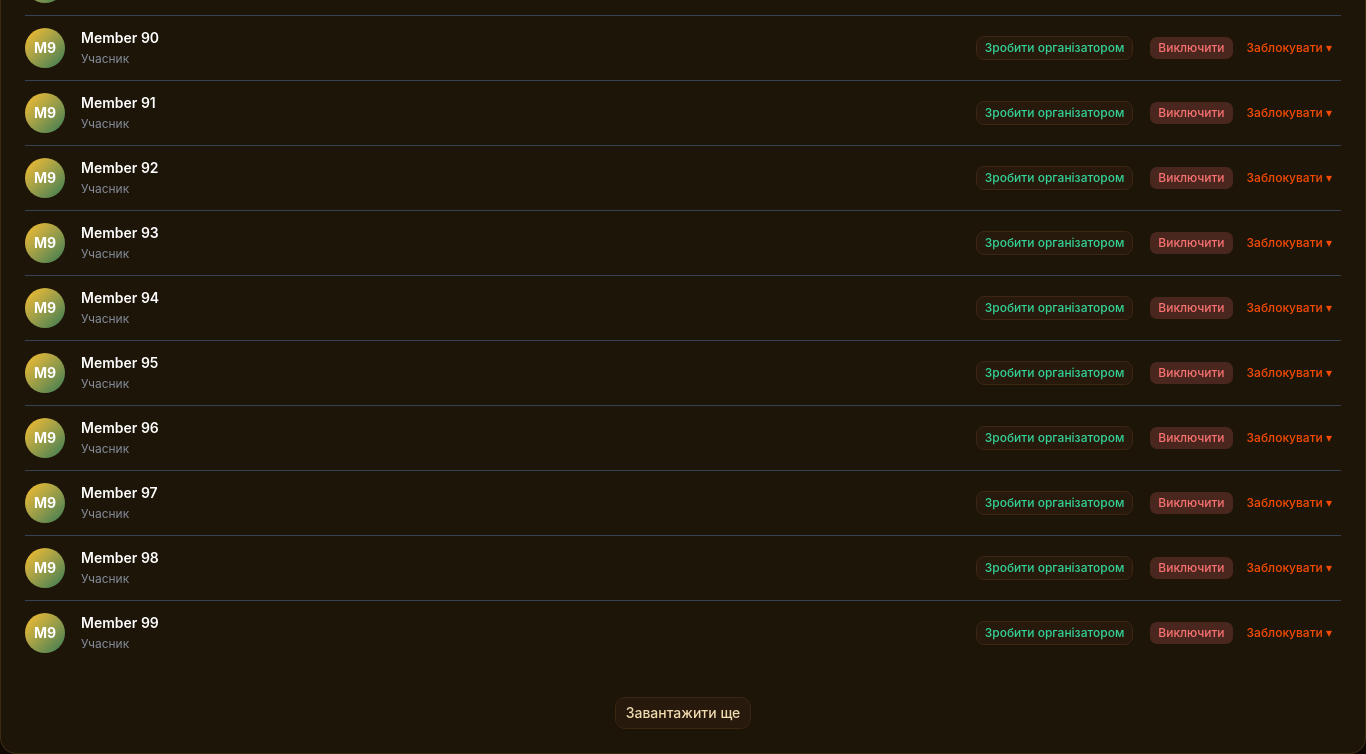
Test: MemberList with role controls › loads the members a page at a time and shows the full count
(page scrolled)
Step 1. Click the button "Завантажити ще" → coordinates (683, 713), box [615, 697, 751, 729]
(page scrolled)
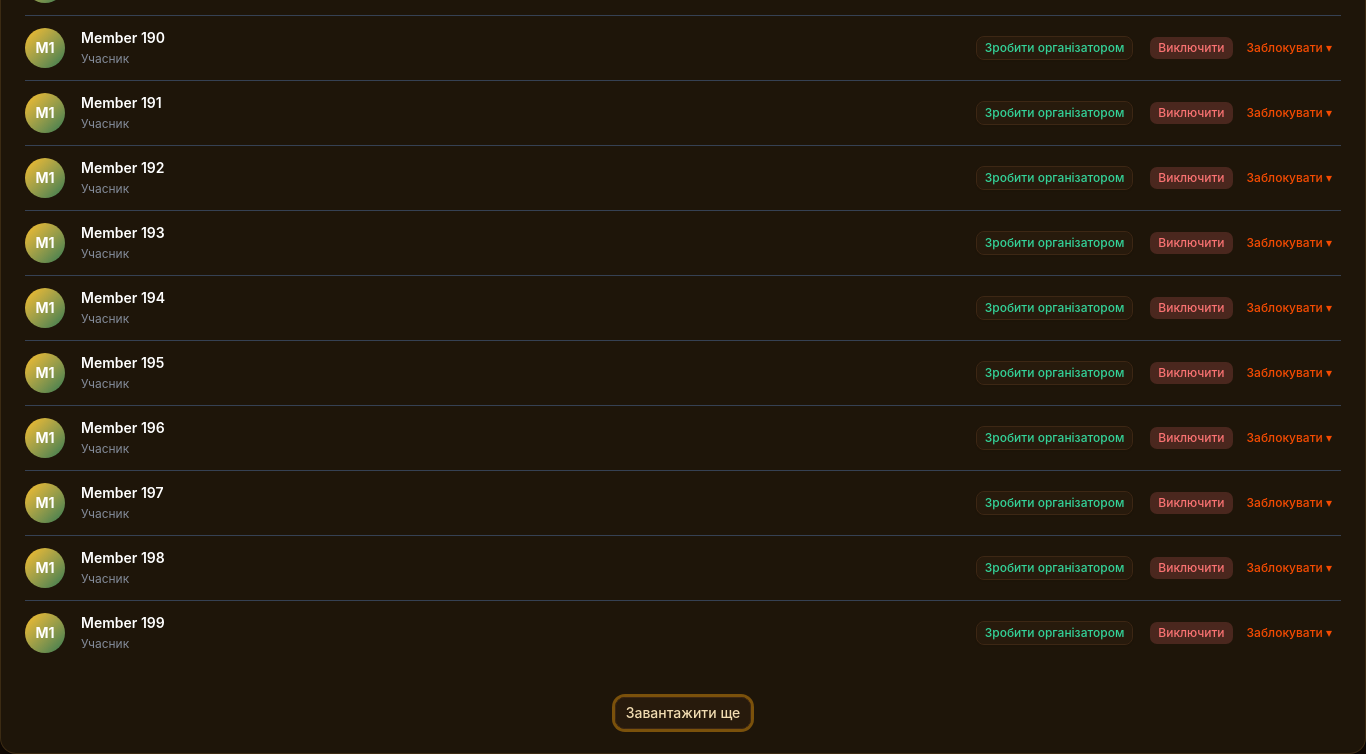
Step 2. Click the button "Завантажити ще" → coordinates (683, 713), box [615, 697, 751, 729]
(page scrolled)
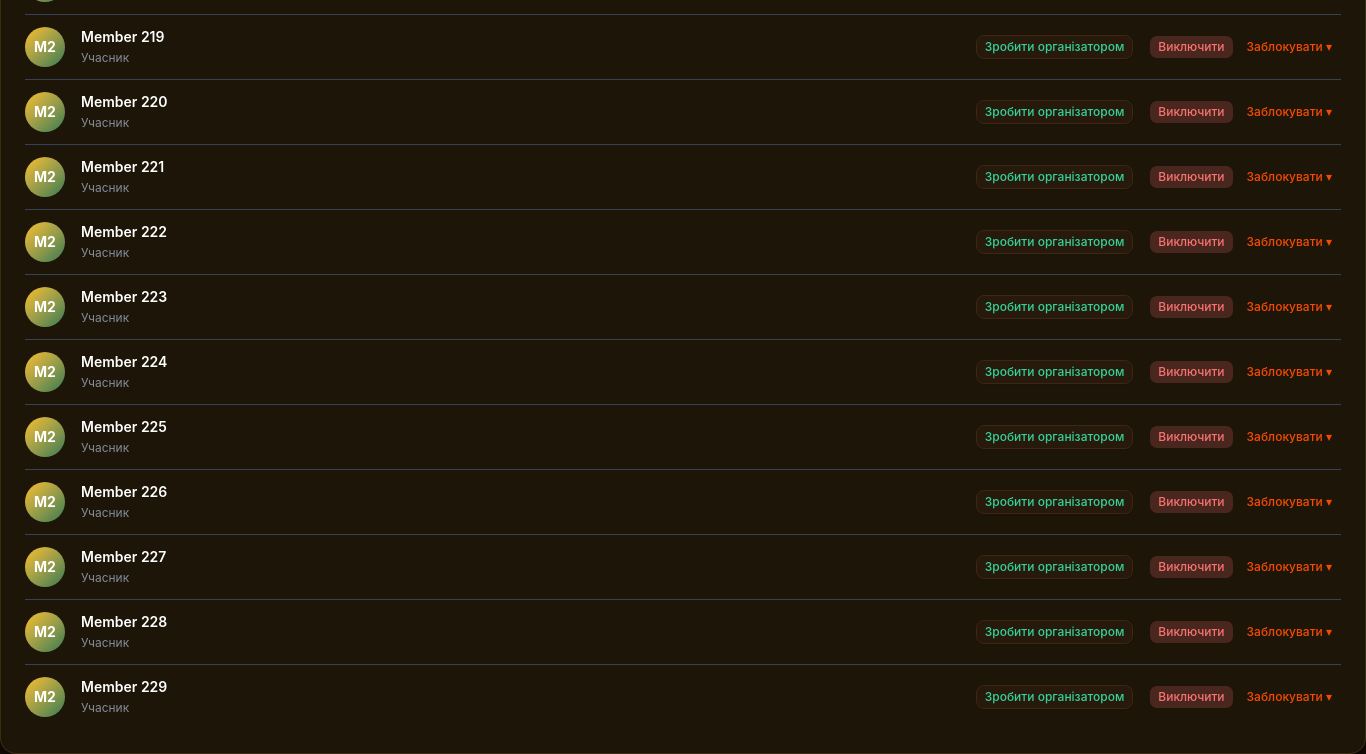
Now the text "Member 229" is shown, box [81, 678, 167, 695]
Now the button "Завантажити ще" is gone
